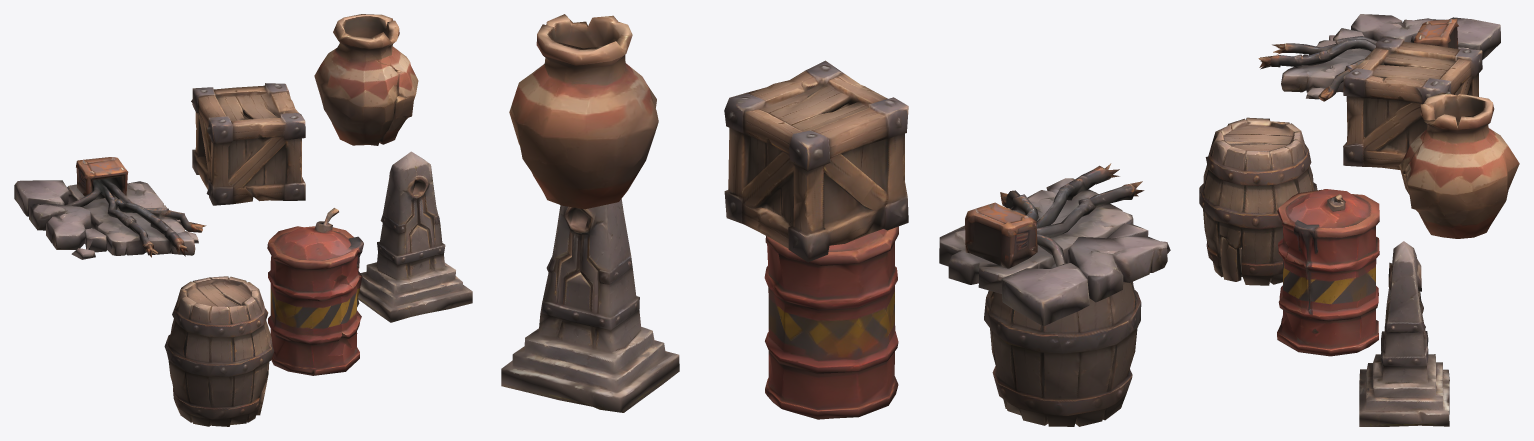
File: props_pack_a.glb
3 renders of one model, left to right at view 1: azimuth 30°, elevation 25°; view 2: azimuth 150°, elevation 25°; view 3: azimuth 270°, elevation 25°, orthographic. The views are drawn at different scales.
Parts seen in each view (by area): view 1: tripo_node_5325f165-cdb3-4e16-a074-4edefea16f08; view 2: tripo_node_5325f165-cdb3-4e16-a074-4edefea16f08; view 3: tripo_node_5325f165-cdb3-4e16-a074-4edefea16f08.
Boxes of the visible parts, left/top/right/bottom form: tripo_node_5325f165-cdb3-4e16-a074-4edefea16f08: left=14, top=14, right=472, bottom=426; tripo_node_5325f165-cdb3-4e16-a074-4edefea16f08: left=501, top=14, right=1170, bottom=426; tripo_node_5325f165-cdb3-4e16-a074-4edefea16f08: left=1199, top=14, right=1519, bottom=426.
Bounding box in the file's own units: 1 × 0.6035 × 0.6016.
1 material, 1 textured.
